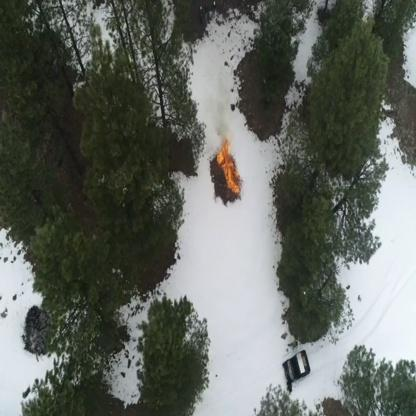Fire: (215, 137, 242, 196)
